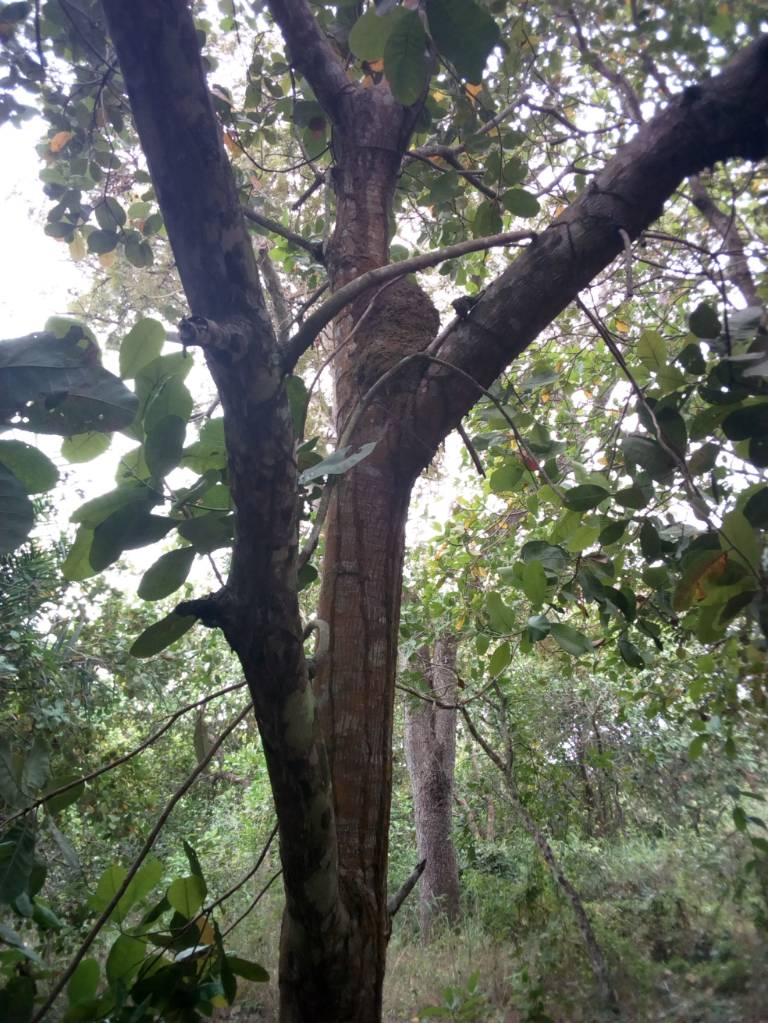Termites: (333, 435, 400, 963), (335, 119, 402, 244), (365, 285, 433, 374)
